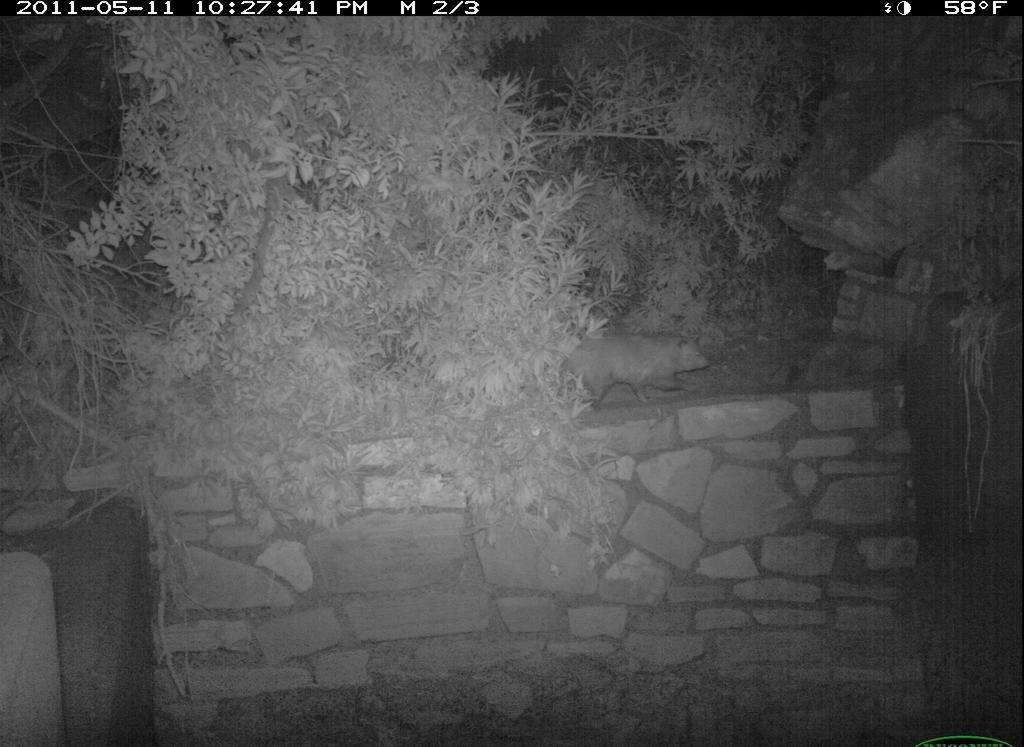opossum: (550, 327, 720, 417)
